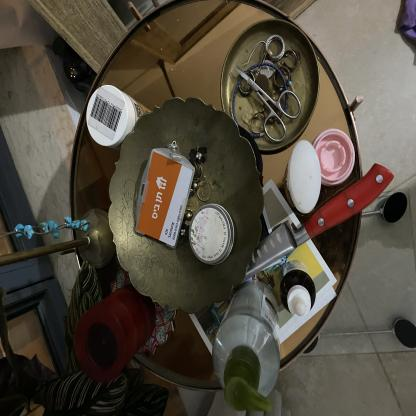Knife: (184, 161, 393, 296)
